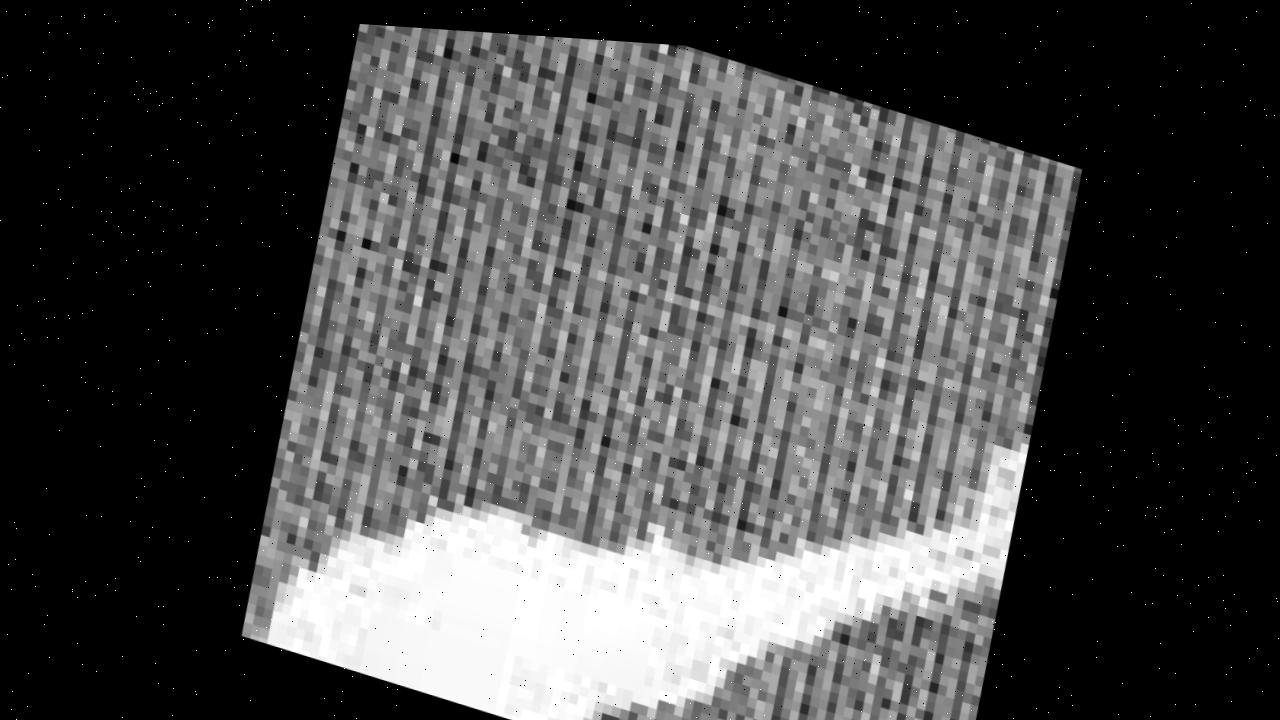drinks Stains: (278, 15, 1110, 720)
